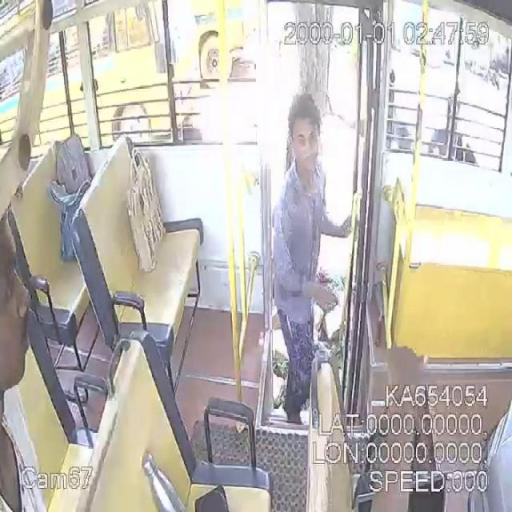persona: (270, 92, 362, 425), (0, 202, 50, 511)
